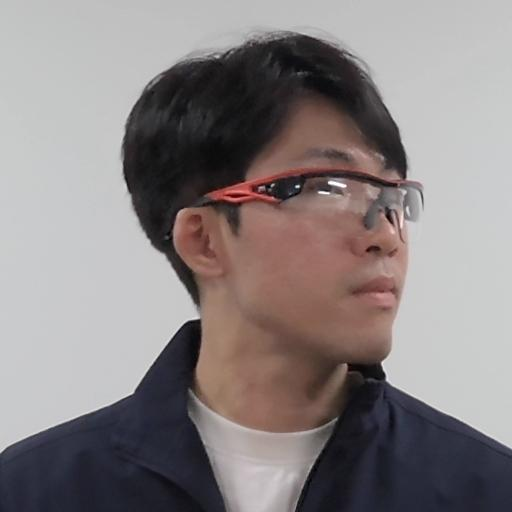glasses: (122, 26, 437, 378)
